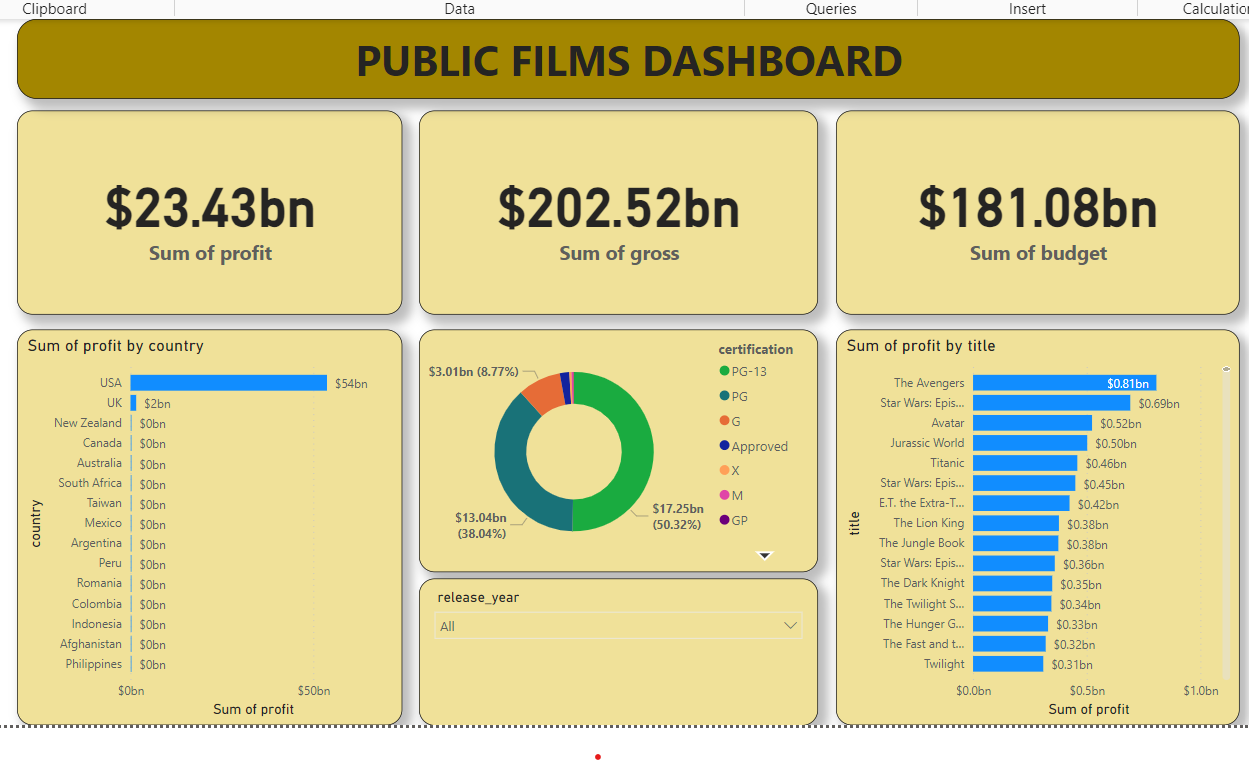

Layout of this report page (visuals, bound fields, positions):
{"tool":"powerbi","page":{"name":"Page 1","canvas":[1280,720],"ordinal":0},"visuals":[{"type":"card","fields":{"Values":["Sum(public films.profit)"]},"box":[21.4,93.2,392.9,207.9],"z":0},{"type":"card","fields":{"Values":["Sum(public films.gross)"]},"box":[431.1,93.2,406.6,207.9],"z":1000},{"type":"card","fields":{"Values":["Sum(public films.budget)"]},"box":[856.1,93.2,411.2,207.9],"z":2000},{"type":"clusteredBarChart","fields":{"Category":["public films.country"],"Y":["Sum(public films.profit)"]},"box":[21.4,316.4,392.9,403.6],"z":3000},{"type":"clusteredBarChart","fields":{"Category":["public films.title"],"Y":["Sum(public films.profit)"]},"box":[856.1,316.4,411.2,403.6],"z":4000},{"type":"donutChart","fields":{"Category":["public films.certification"],"Y":["Sum(public films.profit)"]},"box":[431.1,316.4,406.6,247.6],"z":5000},{"type":"slicer","fields":{"Values":["public films.release_year"]},"box":[431.1,570.2,406.6,149.8],"z":6000},{"type":"textbox","box":[21.4,0,1245.9,81],"z":6001}]}

Visuals, with their boxes in screenshot pixels (x1, y1, x2, y2):
card - Sum(public films.profit): (left=12, top=106, right=404, bottom=313)
card - Sum(public films.gross): (left=420, top=106, right=826, bottom=313)
card - Sum(public films.budget): (left=844, top=106, right=1248, bottom=313)
clusteredBarChart - public films.country x Sum(public films.profit): (left=12, top=329, right=404, bottom=731)
clusteredBarChart - public films.title x Sum(public films.profit): (left=844, top=329, right=1248, bottom=731)
donutChart - public films.certification x Sum(public films.profit): (left=420, top=329, right=826, bottom=576)
slicer - public films.release_year: (left=420, top=582, right=826, bottom=731)
textbox: (left=12, top=13, right=1248, bottom=94)
